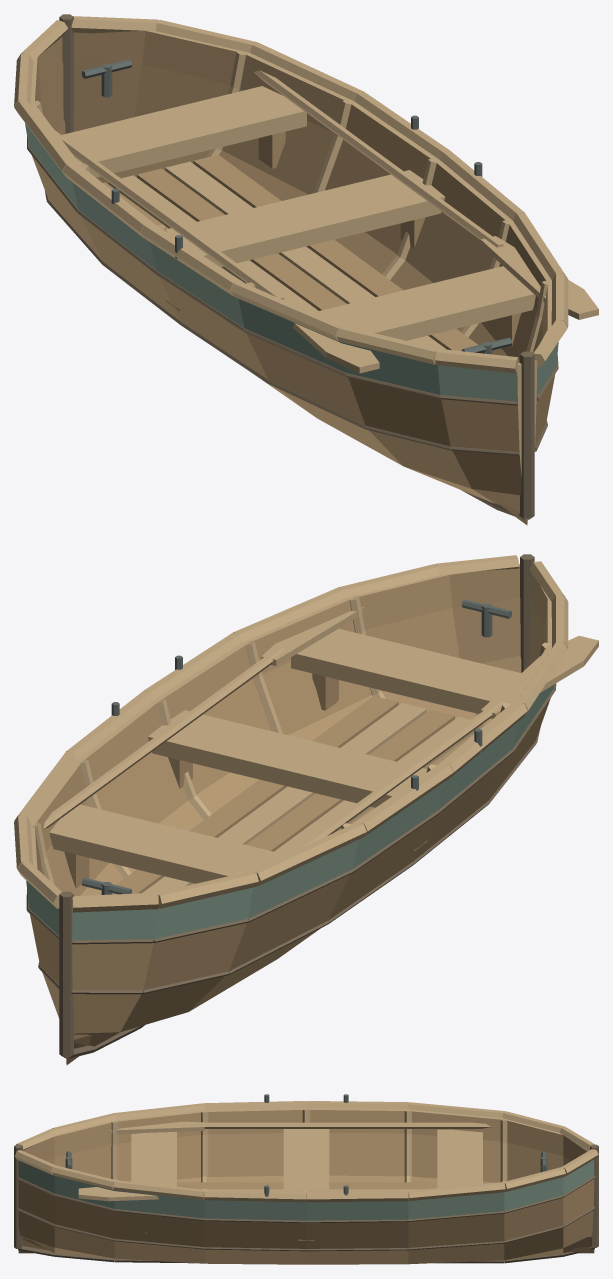
The model's file is skiff.glb.
The picture shows the model from 3 angles, top to bottom: view 1: azimuth 30°, elevation 25°; view 2: azimuth 150°, elevation 25°; view 3: azimuth 270°, elevation 25°; orthographic projection. The views are drawn at different scales.
Visible parts, largest first — view 1: Hull, Fittings, Gunwales, Oars, Strakes, Keel, Ribs, Iron; view 2: Hull, Fittings, Gunwales, Oars, Strakes, Keel, Ribs, Iron; view 3: Hull, Gunwales, Fittings, Oars, Strakes, Keel, Ribs, Iron.
Boxes of the visible parts, x1,y1,x2,y2 form: Hull: [25, 30, 558, 525]; Fittings: [62, 86, 535, 353]; Gunwales: [14, 16, 568, 373]; Oars: [55, 70, 598, 373]; Strakes: [27, 136, 558, 455]; Keel: [59, 14, 534, 520]; Ribs: [32, 51, 550, 352]; Iron: [81, 59, 512, 354]; Hull: [26, 564, 554, 1064]; Fittings: [49, 628, 520, 894]; Gunwales: [14, 555, 568, 912]; Oars: [43, 607, 598, 854]; Strakes: [26, 683, 556, 994]; Keel: [59, 554, 534, 1058]; Ribs: [32, 596, 550, 884]; Iron: [81, 599, 512, 894]; Hull: [18, 1108, 594, 1264]; Gunwales: [15, 1101, 598, 1202]; Fittings: [131, 1129, 488, 1240]; Oars: [78, 1121, 490, 1201]; Strakes: [17, 1176, 595, 1251]; Keel: [14, 1144, 598, 1263]; Ribs: [111, 1109, 507, 1191]; Iron: [65, 1094, 547, 1200].
Bounding box in the file's own units: 1.89 × 1.12 × 4.88.
